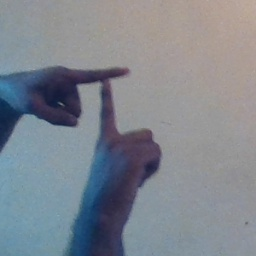T: (40, 50, 155, 160)
